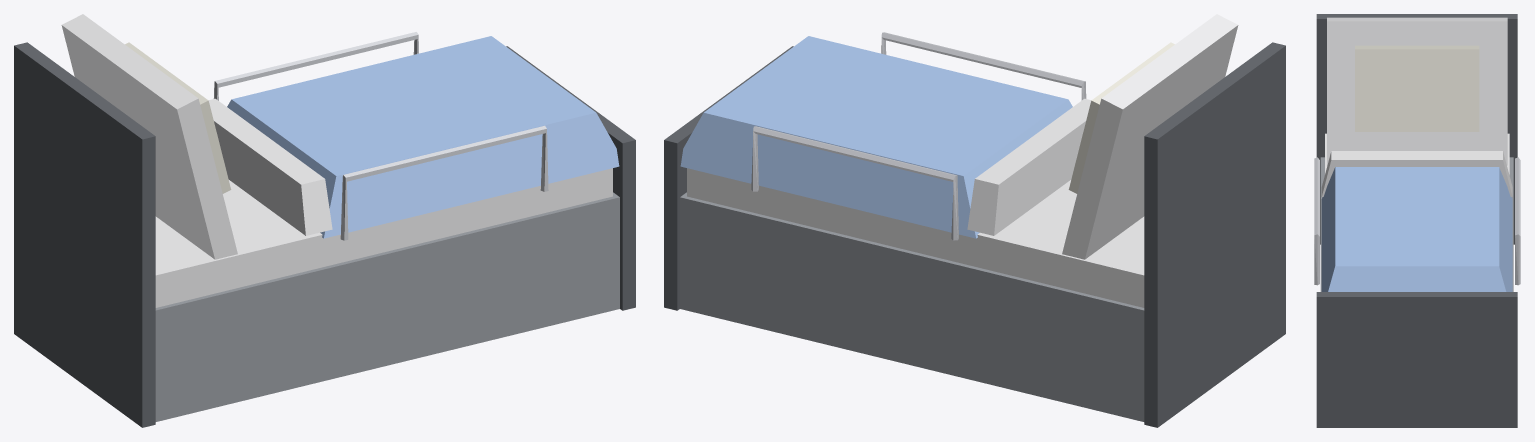
Rendered from WardBed.obj.
3 renders of one model, left to right at view 1: azimuth 30°, elevation 25°; view 2: azimuth 150°, elevation 25°; view 3: azimuth 270°, elevation 25°, orthographic. The views are drawn at different scales.
Visible parts, largest first — view 1: WardBed; view 2: WardBed; view 3: WardBed.
Boxes of the visible parts, box(x1,y1,x2,y2) form: WardBed: box(14, 14, 635, 427); WardBed: box(664, 14, 1285, 427); WardBed: box(1314, 14, 1520, 427).
Size of the model in its own units: 2.22 by 1.33 by 1.03.
Materials: 1 (1 with a texture image).
